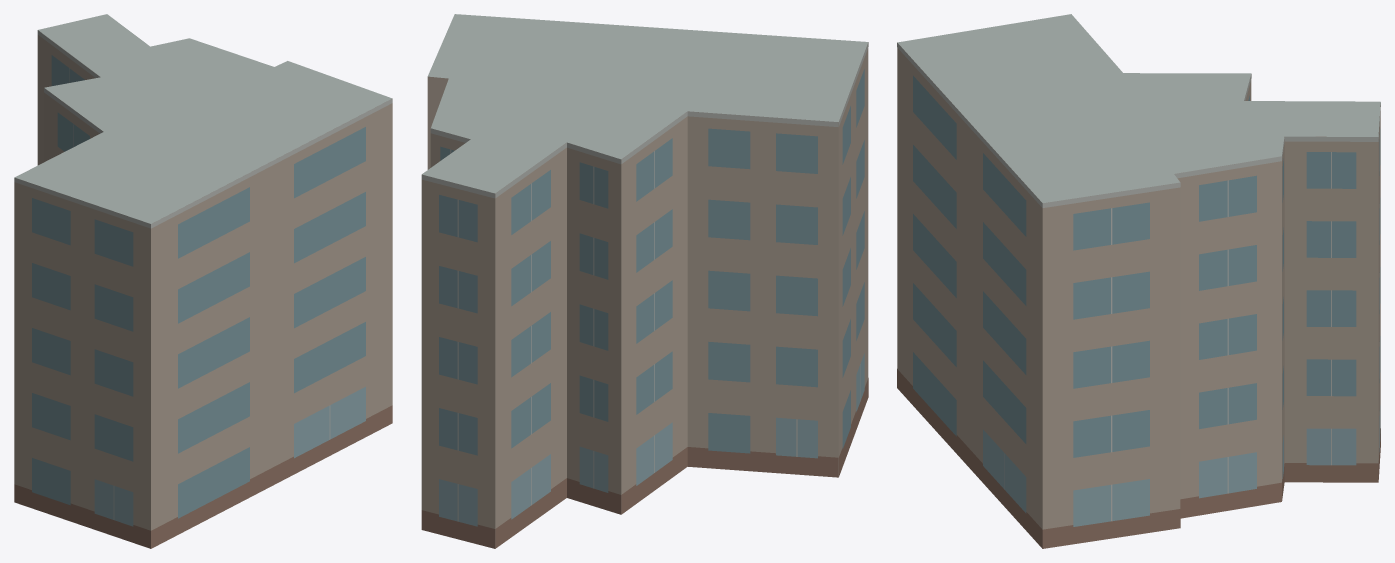
The model's file is survey-upis-32852152.glb.
3 views of the same model, side by side, from view 1: azimuth 30°, elevation 25°; view 2: azimuth 150°, elevation 25°; view 3: azimuth 270°, elevation 25° (orthographic). The views are drawn at different scales.
Visible parts, largest first — view 1: survey-upis-32852152.tmp; view 2: survey-upis-32852152.tmp; view 3: survey-upis-32852152.tmp.
Boxes of the visible parts, x1=… form: survey-upis-32852152.tmp: x1=14, y1=14, x2=392, y2=548; survey-upis-32852152.tmp: x1=421, y1=14, x2=868, y2=548; survey-upis-32852152.tmp: x1=897, y1=14, x2=1380, y2=548.
Size of the model in its own units: 20.21 by 17.2 by 21.82.
